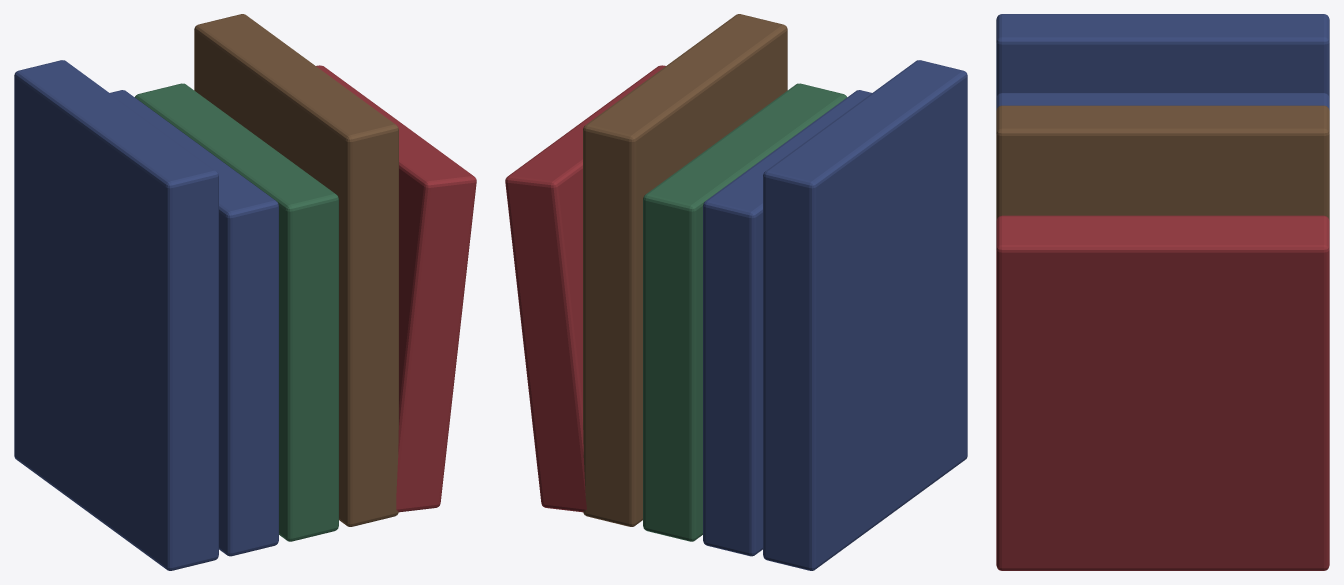
The model's file is book_stack_leaning_row.glb.
3 renders of one model, left to right at view 1: azimuth 30°, elevation 25°; view 2: azimuth 150°, elevation 25°; view 3: azimuth 270°, elevation 25°, orthographic. The views are drawn at different scales.
Parts seen in each view (by area): view 1: GD_book_stack_leaning_row__m0, GD_book_stack_leaning_row__m2, GD_book_stack_leaning_row__m1, GD_book_stack_leaning_row__m3; view 2: GD_book_stack_leaning_row__m0, GD_book_stack_leaning_row__m2, GD_book_stack_leaning_row__m1, GD_book_stack_leaning_row__m3; view 3: GD_book_stack_leaning_row__m3, GD_book_stack_leaning_row__m2, GD_book_stack_leaning_row__m0.
Part boxes in pixels (x1=…): GD_book_stack_leaning_row__m0: x1=14, y1=60, x2=278, y2=570; GD_book_stack_leaning_row__m2: x1=194, y1=14, x2=398, y2=526; GD_book_stack_leaning_row__m1: x1=134, y1=83, x2=338, y2=541; GD_book_stack_leaning_row__m3: x1=316, y1=65, x2=476, y2=512; GD_book_stack_leaning_row__m0: x1=703, y1=60, x2=967, y2=570; GD_book_stack_leaning_row__m2: x1=583, y1=14, x2=787, y2=526; GD_book_stack_leaning_row__m1: x1=643, y1=83, x2=847, y2=541; GD_book_stack_leaning_row__m3: x1=505, y1=65, x2=665, y2=512; GD_book_stack_leaning_row__m3: x1=996, y1=215, x2=1329, y2=570; GD_book_stack_leaning_row__m2: x1=996, y1=105, x2=1329, y2=220; GD_book_stack_leaning_row__m0: x1=996, y1=14, x2=1329, y2=110.
Size of the model in its own units: 0.2069 by 0.2503 by 0.18.
